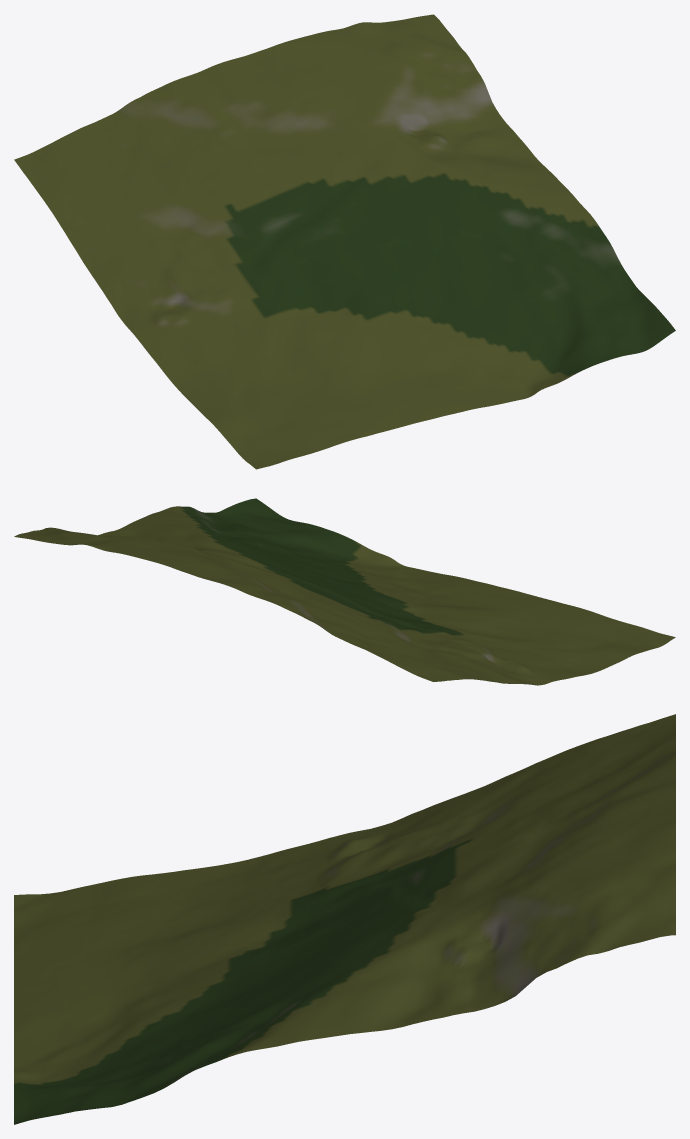
File: terrain_12_-12.glb
3 views of the same model, one above another, from view 1: azimuth 30°, elevation 25°; view 2: azimuth 150°, elevation 25°; view 3: azimuth 270°, elevation 25° (orthographic). The views are drawn at different scales.
Parts seen in each view (by area): view 1: terrain_12_-12; view 2: terrain_12_-12; view 3: terrain_12_-12.
Part boxes in pixels (bbox=[...]): terrain_12_-12: bbox=[14, 14, 675, 469]; terrain_12_-12: bbox=[14, 498, 675, 685]; terrain_12_-12: bbox=[14, 714, 675, 1124].
Bounding box in the file's own units: 256 × 108 × 256.
